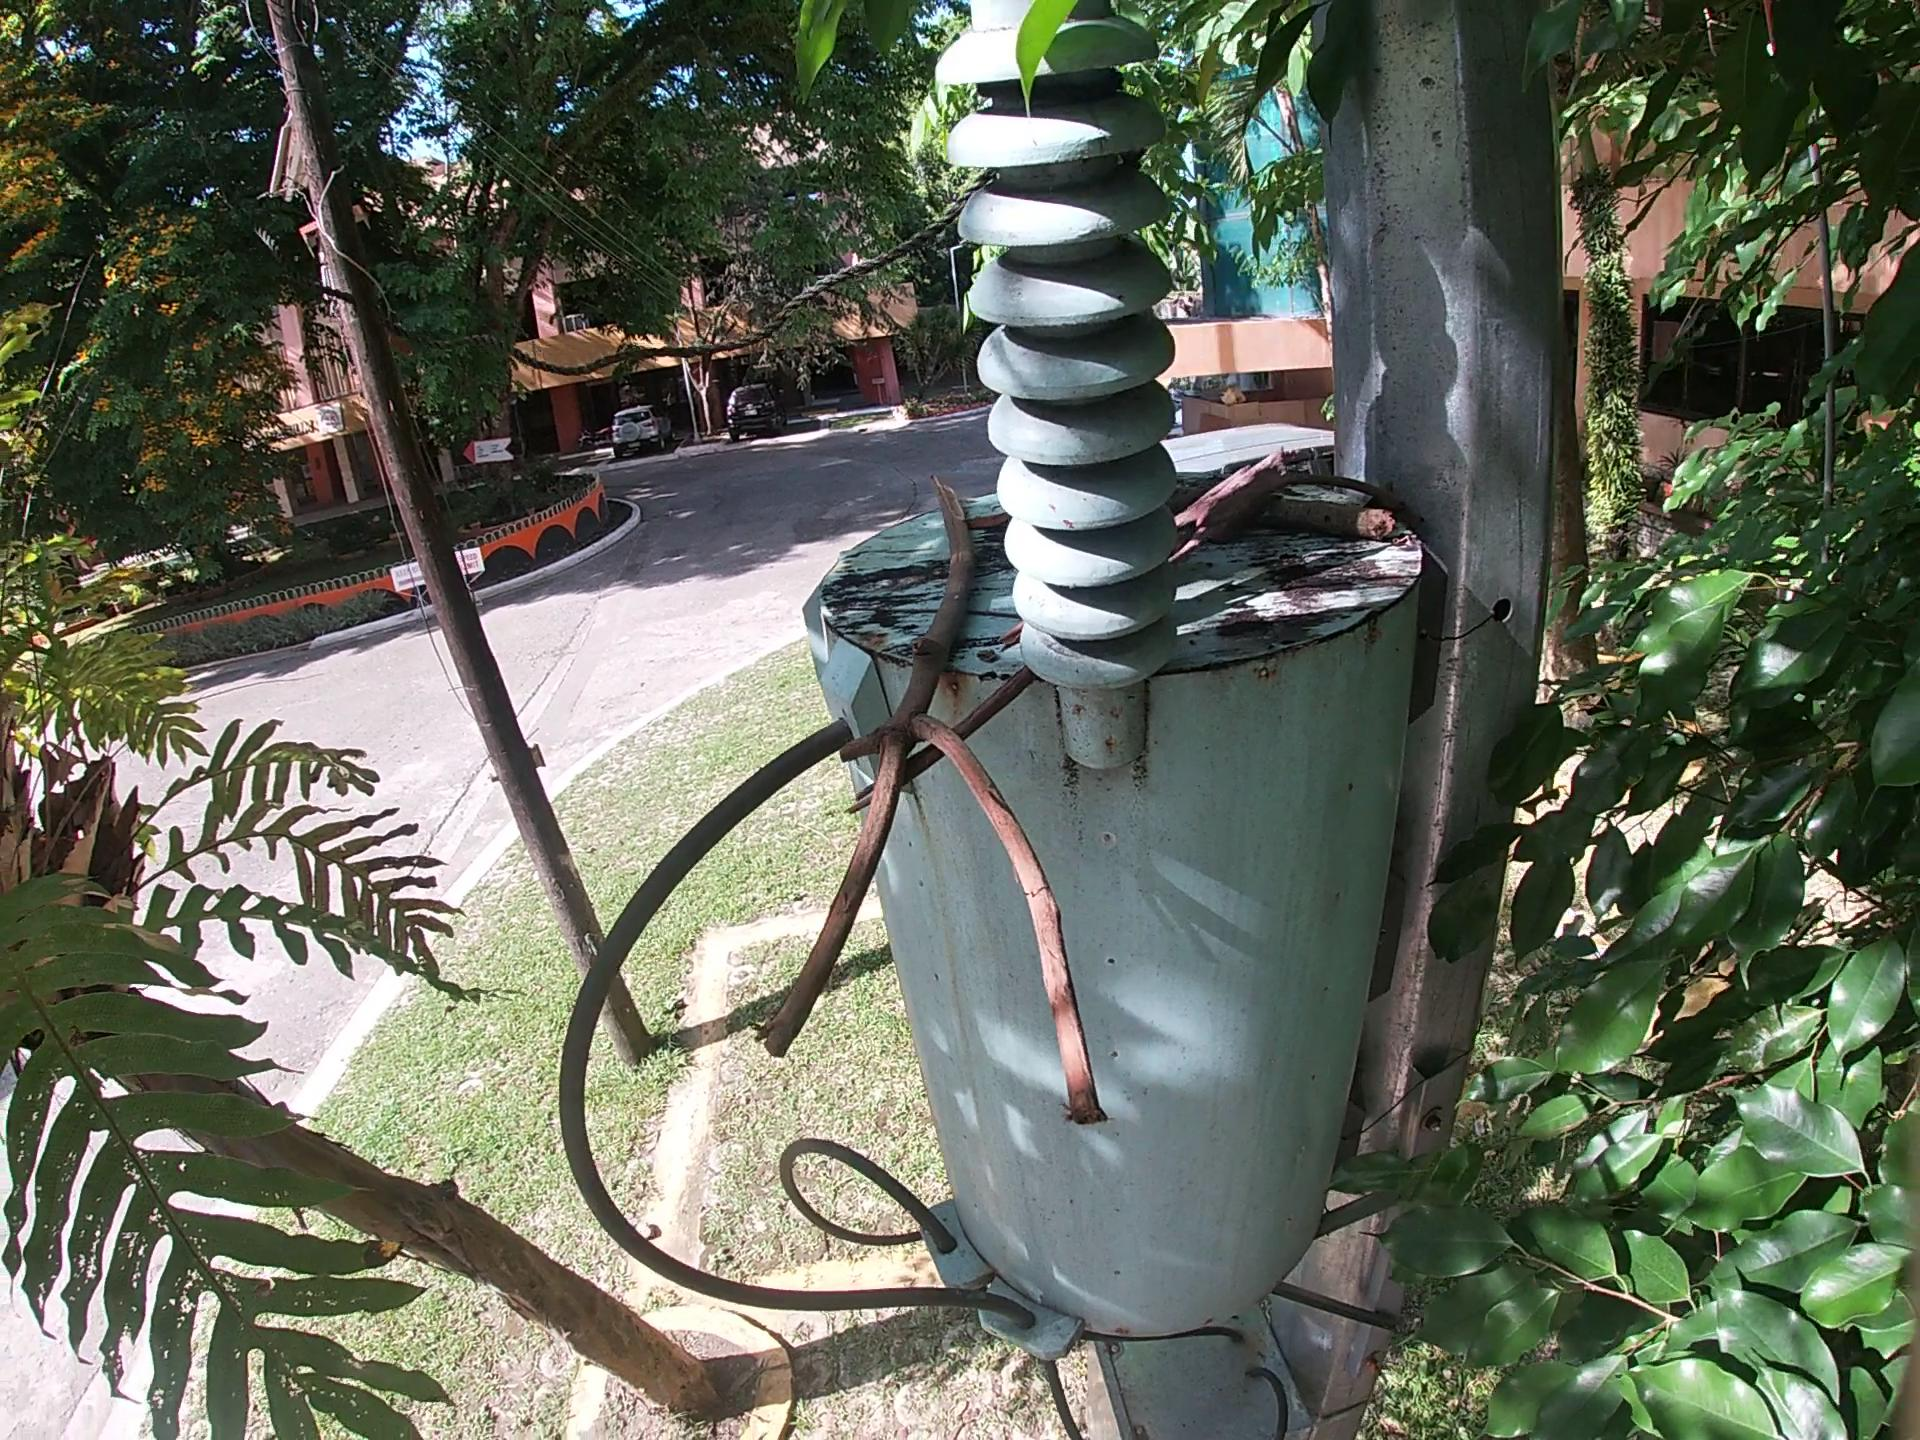mahogany fruit: (966, 510, 1016, 537)
tree branch: (738, 475, 1147, 1180), (842, 653, 1072, 805), (1169, 430, 1305, 575), (1249, 505, 1432, 535), (845, 590, 1019, 619), (992, 608, 1042, 653), (1279, 479, 1409, 496), (1178, 466, 1222, 510)
